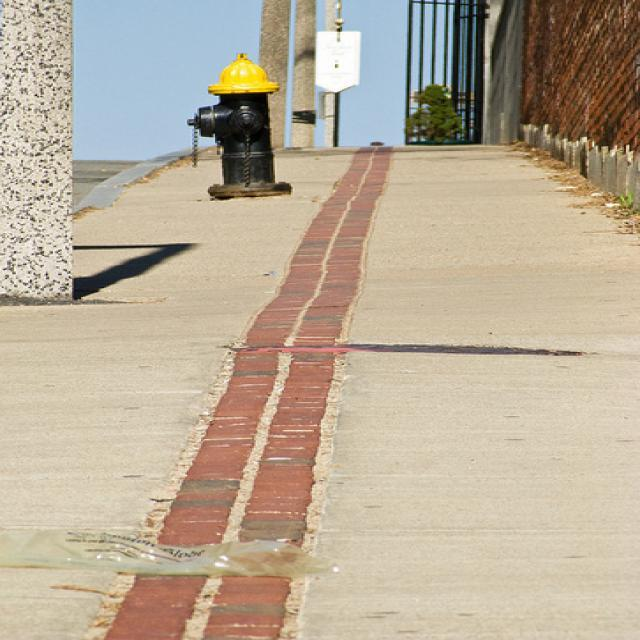fire_hydrant: (186, 52, 290, 198)
